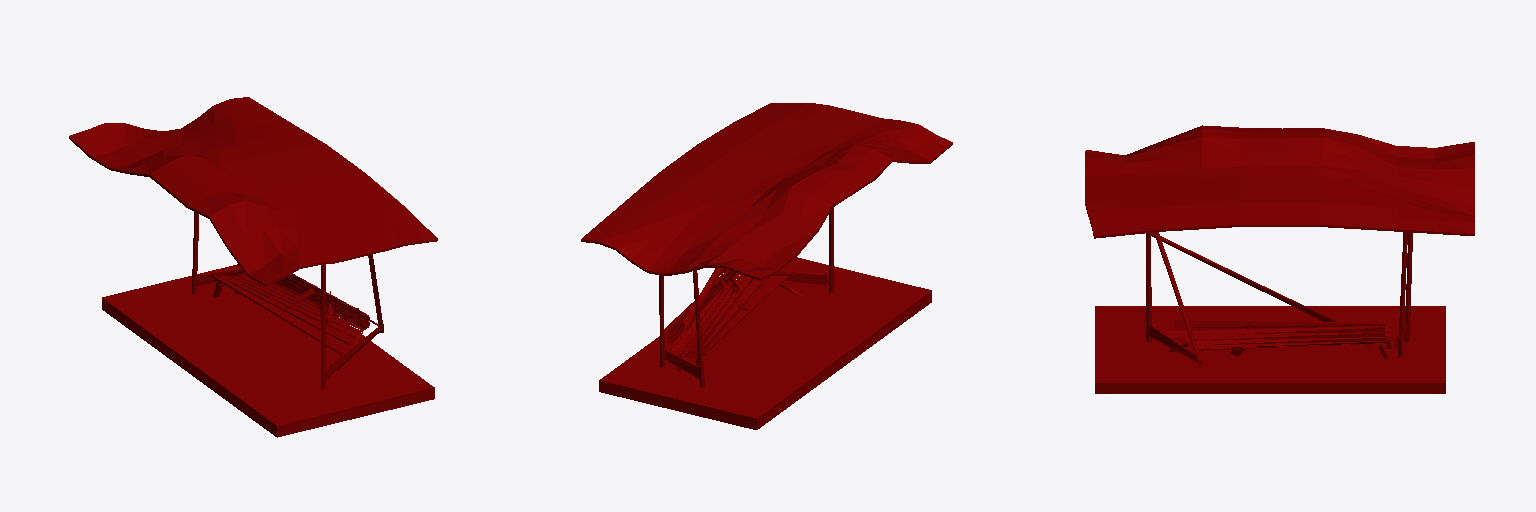
Rendered from BrokenBusStop_001.obj.
3 renders of one model, left to right at view 1: azimuth 30°, elevation 25°; view 2: azimuth 150°, elevation 25°; view 3: azimuth 270°, elevation 25°, orthographic.
Parts seen in each view (by area): view 1: Box004; view 2: Box004; view 3: Box004.
Part boxes in pixels (x1,y1,x2,y2): Box004: (69,97,437,437); Box004: (581,103,952,429); Box004: (1085,125,1474,393).
Size of the model in its own units: 80 by 81.89 by 150.